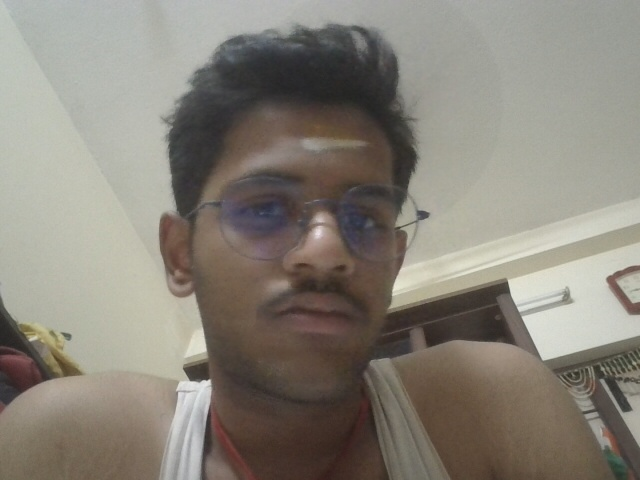real: (173, 103, 442, 372)
